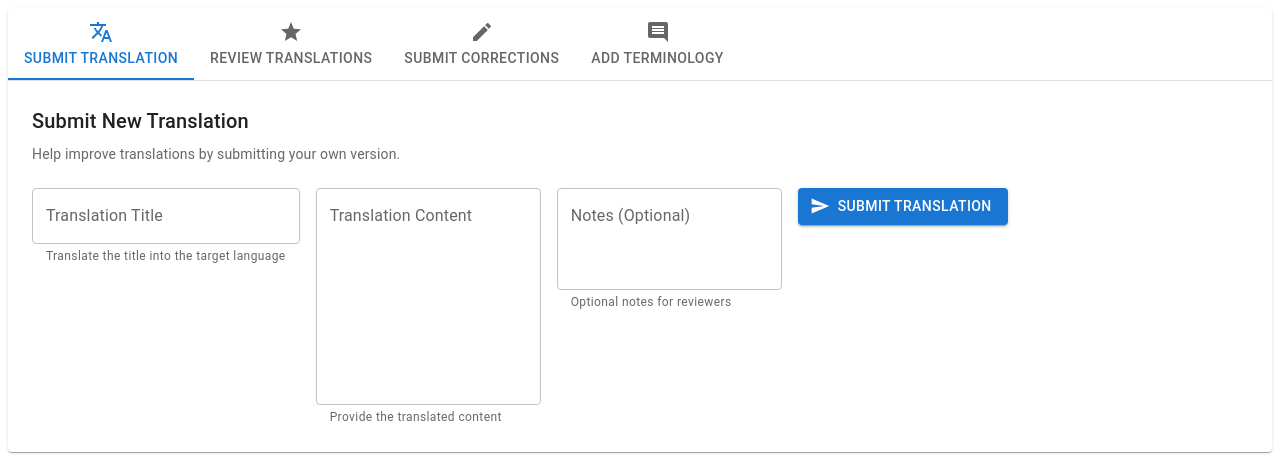
Scenario: Multilingual System Tests › ContributionInterface Component › handles review submission
The image size is (1280, 471).
# Switch to review tab
Click the tab "Review Translations" at (291,44), box [194,8,388,80]
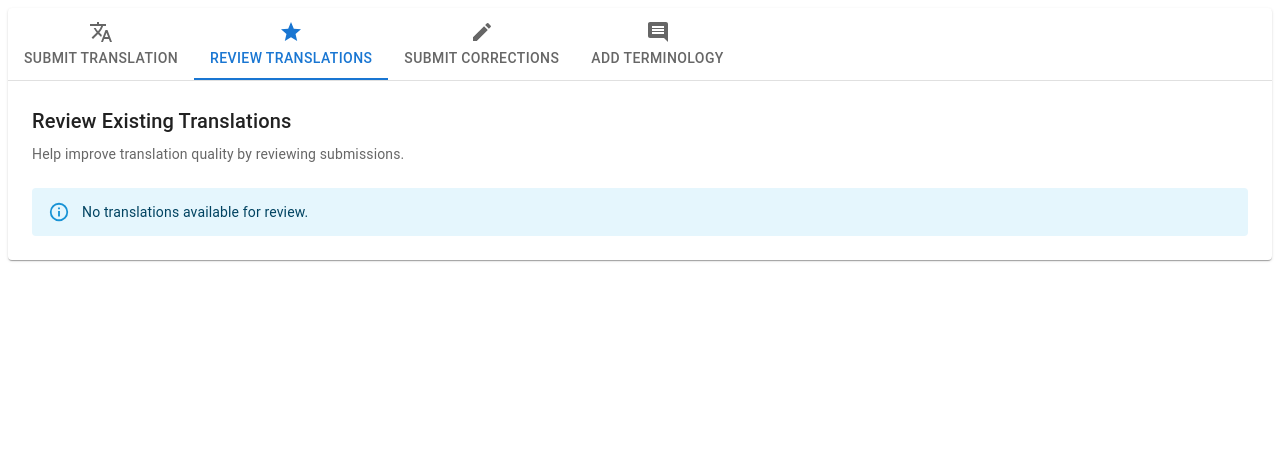
Expected: the heading "Review Existing Translations" is shown, [32,109,292,133]
